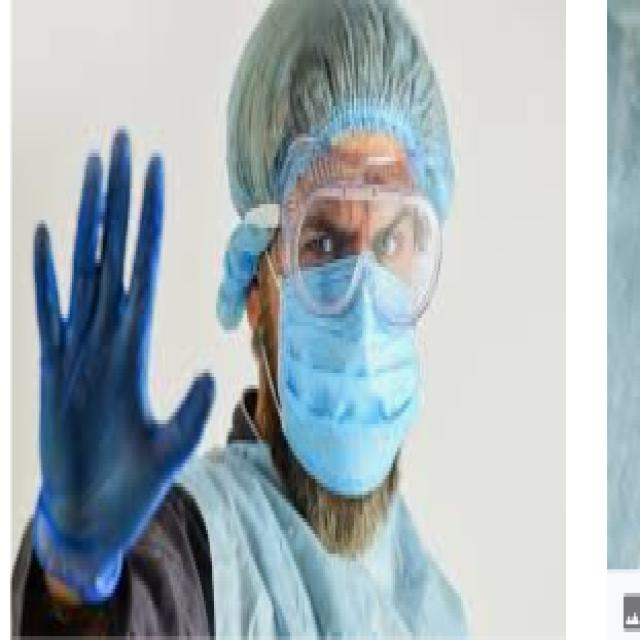glasses: (278, 179, 450, 326)
